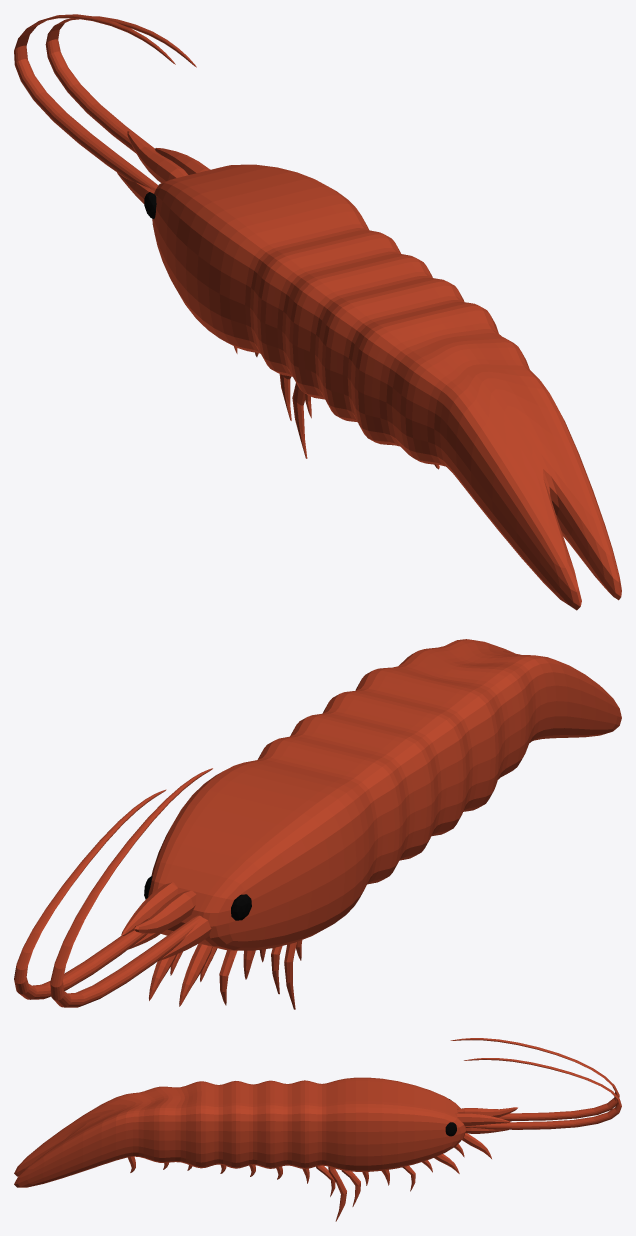
File: Krill.glb
The picture shows the model from 3 angles, top to bottom: view 1: azimuth 30°, elevation 25°; view 2: azimuth 150°, elevation 25°; view 3: azimuth 270°, elevation 25°; orthographic projection. The views are drawn at different scales.
Parts seen in each view (by area): view 1: Cube_2, Cube.022_24, Cube.021_23, Cube.002_4; view 2: Cube_2, Cube.022_24, Cube.021_23, Cube.002_4, Cube.003_5, Cube.007_9, Cube.001_3; view 3: Cube_2, Cube.021_23, Cube.022_24, Cube.003_5, Cube.002_4, Cube.023_25.
Boxes of the visible parts, <box> form: Cube_2: <box>152,164,621,610</box>; Cube.022_24: <box>14,14,175,190</box>; Cube.021_23: <box>45,16,196,153</box>; Cube.002_4: <box>127,131,188,182</box>; Cube_2: <box>148,639,621,950</box>; Cube.022_24: <box>50,768,212,1007</box>; Cube.021_23: <box>14,789,166,999</box>; Cube.002_4: <box>134,890,196,933</box>; Cube.003_5: <box>121,882,178,936</box>; Cube.007_9: <box>179,943,212,1006</box>; Cube.001_3: <box>158,917,211,960</box>; Cube_2: <box>14,1077,466,1187</box>; Cube.021_23: <box>464,1058,621,1129</box>; Cube.022_24: <box>450,1038,619,1120</box>; Cube.003_5: <box>455,1113,509,1125</box>; Cube.002_4: <box>457,1107,517,1117</box>; Cube.023_25: <box>328,1167,346,1221</box>.
Size of the model in its own units: 0.8528 by 1.78 by 5.54.
